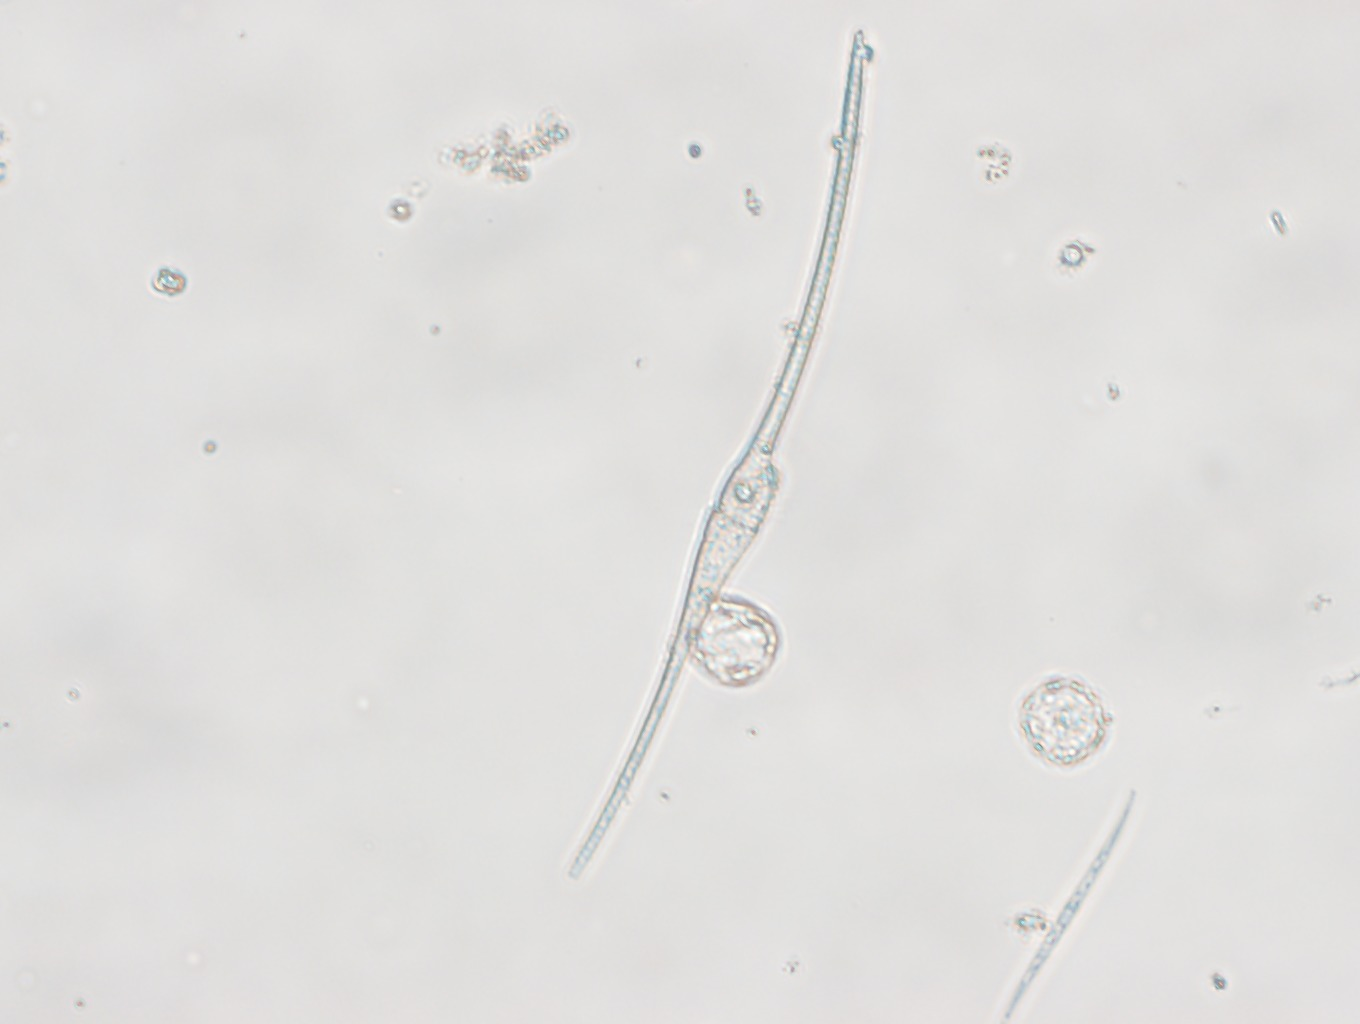ceratium fusus: (566, 28, 868, 882)
pleurosigma pelagicum: (996, 778, 1139, 1024)
